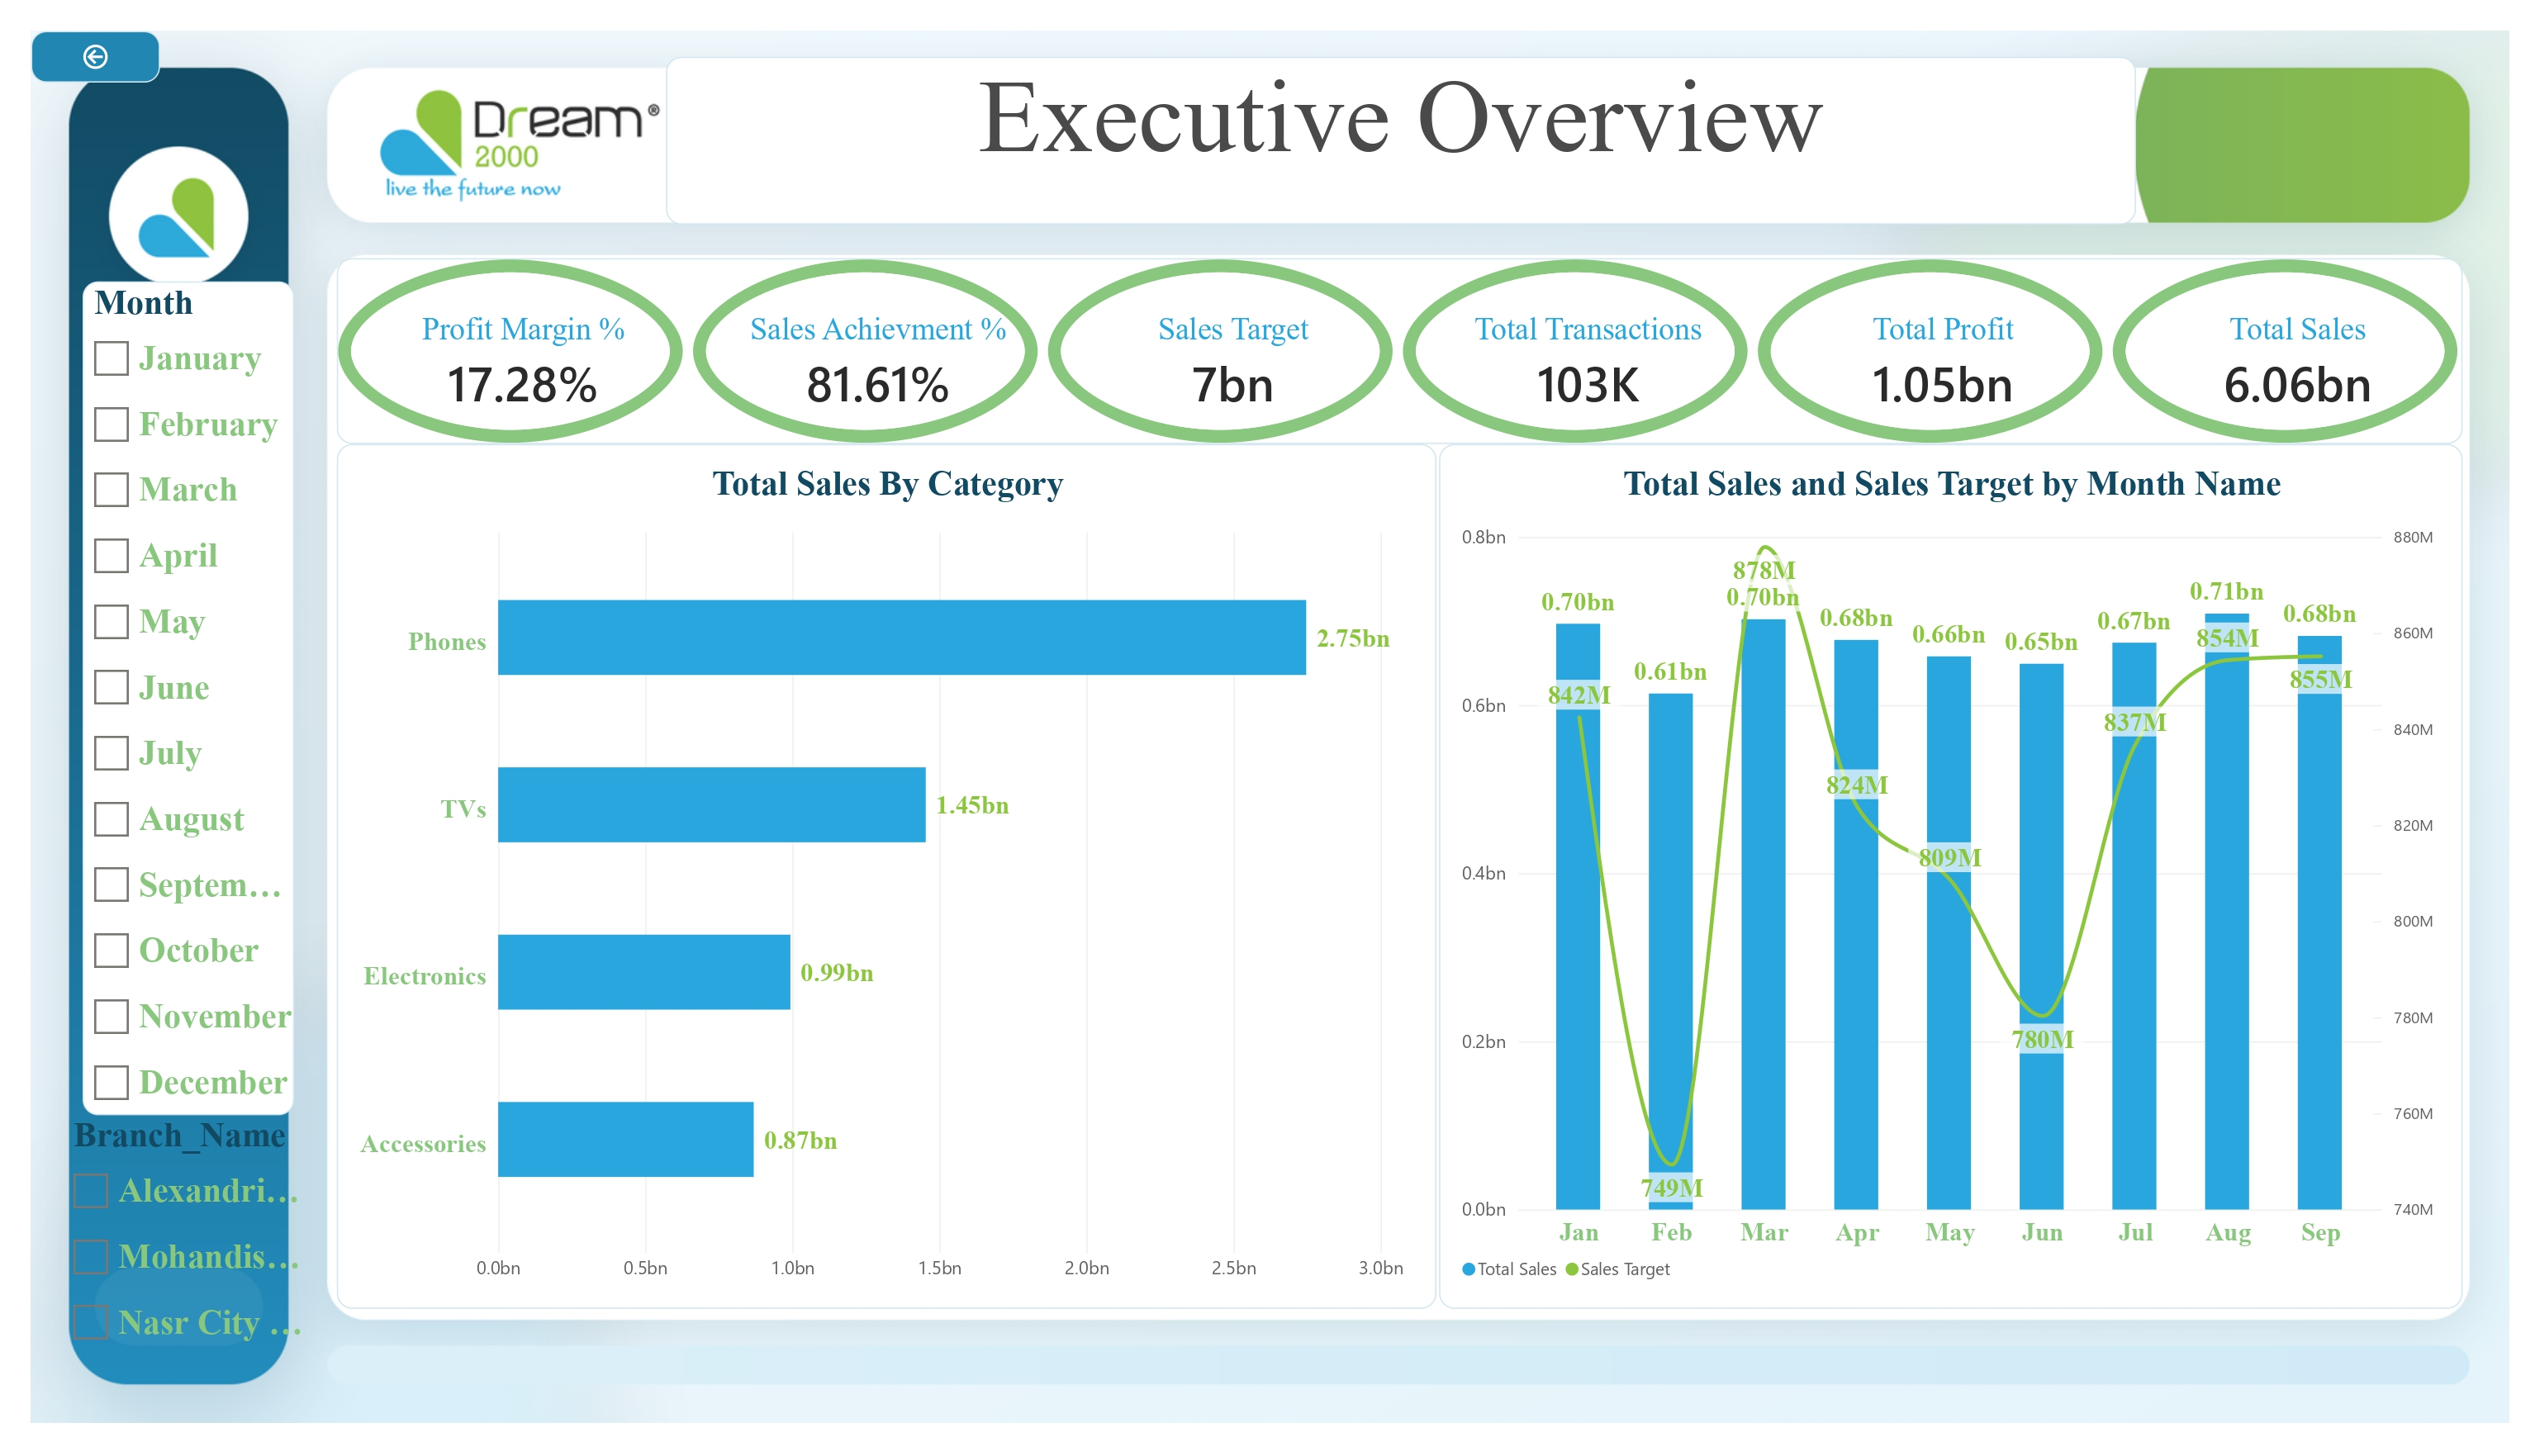

This screenshot's page, from the dashboard's own definition file:
{"tool":"powerbi","page":{"name":"Executive Overview","canvas":[1920,1080],"ordinal":1},"visuals":[{"type":"textbox","box":[492.2,19.9,1138.3,130.3],"z":0},{"type":"cardVisual","fields":{"Data":["Table.Profit Margin %","Table.Sales Achievment %","Table.Sales Target","Table.Total Transactions","Table.Total Profit","Table.Total Sales"]},"box":[237.1,175.5,1646.8,144.8],"z":1},{"type":"lineClusteredColumnComboChart","fields":{"Category":["Date.Month Name"],"Y":["Table.Total Sales"],"Y2":["Table.Sales Target"]},"box":[1091.2,320.3,792.6,669.6],"z":2},{"type":"slicer","fields":{"Values":["Employees_Table.Date_of_Birth.Variation.Date Hierarchy.Month"]},"box":[39.8,193.6,164.7,646],"z":3},{"type":"actionButton","box":[0,0,100,40],"z":4},{"type":"slicer","fields":{"Values":["Branches_Table.Branch_Name"]},"box":[25.3,839.7,190,197.3],"z":5},{"type":"clusteredBarChart","title":" Total Sales By Category","fields":{"Category":["Products.Category"],"Y":["Sum(Sales_Table.Total Sales)"]},"box":[237.1,320.3,852.4,669.6],"z":6}]}

Visuals, with their boxes on the page's 1920x1080 design canvas (x1, y1, x2, y2). These are canvas units, not pixel positions in the 2540x1456 screenshot, which may show the page scaled, cropped or inside an application window:
textbox: bbox(492, 20, 1630, 150)
cardVisual - Table.Profit Margin % x Table.Sales Achievment %: bbox(237, 176, 1884, 320)
lineClusteredColumnComboChart - Date.Month Name x Table.Total Sales: bbox(1091, 320, 1884, 990)
slicer - Employees_Table.Date_of_Birth.Variation.Date Hierarchy.Month: bbox(40, 194, 204, 840)
actionButton: bbox(0, 0, 100, 40)
slicer - Branches_Table.Branch_Name: bbox(25, 840, 215, 1037)
" Total Sales By Category" clusteredBarChart: bbox(237, 320, 1090, 990)
